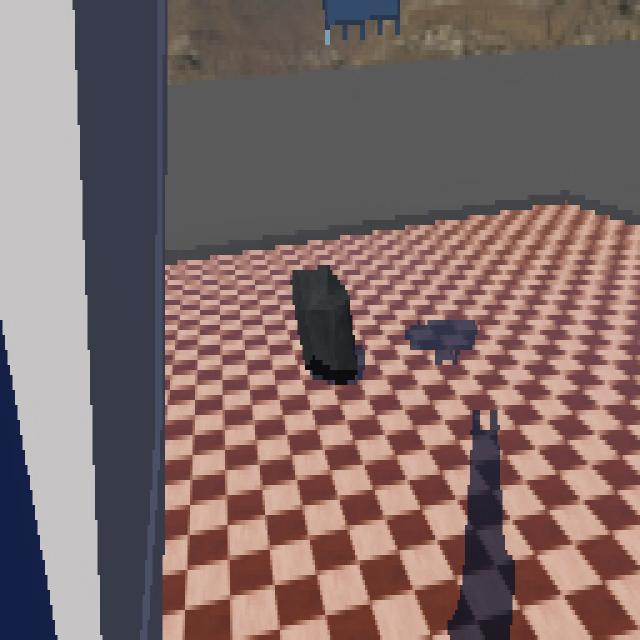rock: (291, 261, 360, 385)
